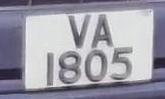0: (82, 48, 111, 86)
1: (44, 47, 57, 89)
5: (108, 45, 138, 84)
8: (54, 50, 85, 86)
A: (90, 11, 116, 51)
V: (67, 13, 93, 50)
